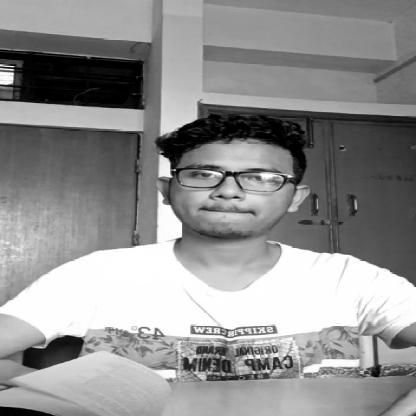Normal: (162, 112, 317, 245)
